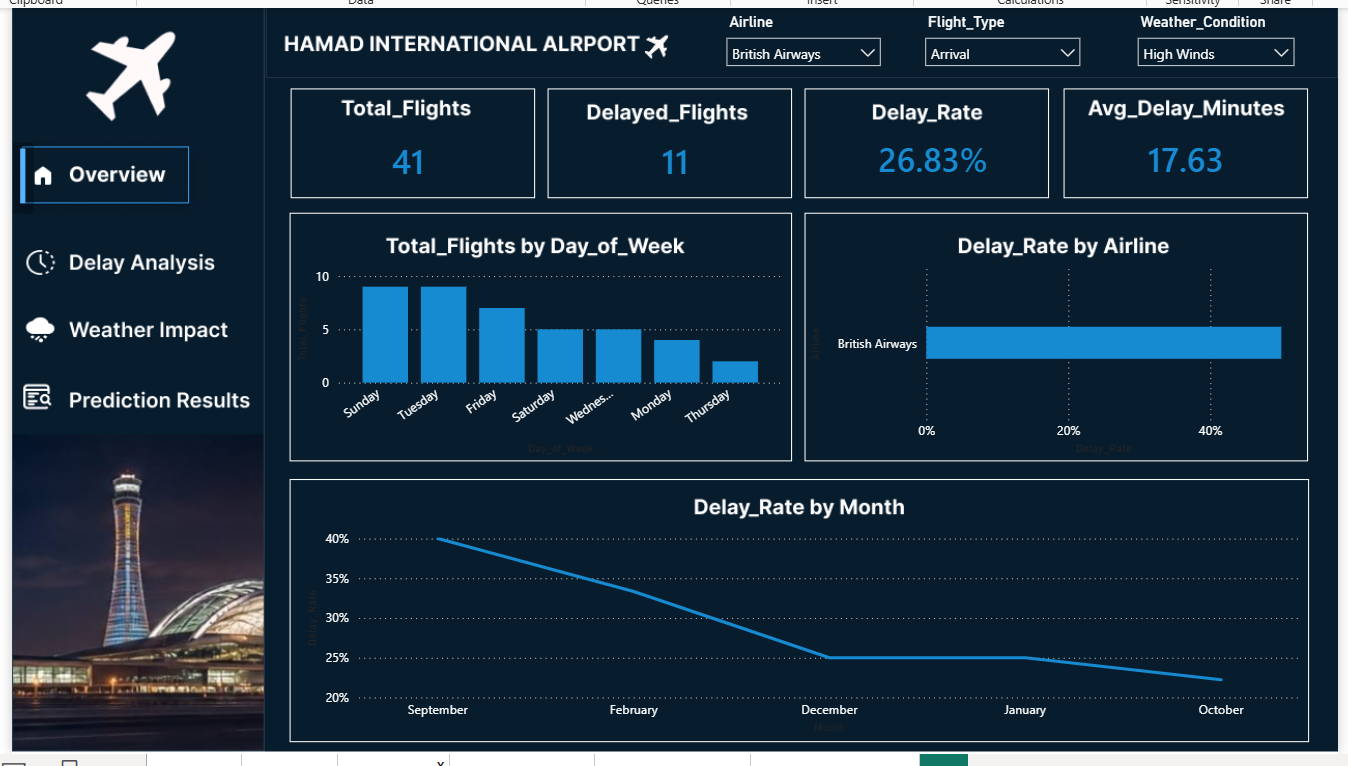

What the dashboard file says about the page in this screenshot:
{"tool":"powerbi","page":{"name":"overview","canvas":[1280,720],"ordinal":2},"visuals":[{"type":"cardVisual","fields":{"Data":["Measure.Total_Flights"]},"box":[308.3,113.1,147.6,65.5],"z":0},{"type":"cardVisual","fields":{"Data":["Measure.Delayed_Flights"]},"box":[578.6,113.1,122.6,65.5],"z":1000},{"type":"cardVisual","fields":{"Data":["Measure.Delay_Rate"]},"box":[797.6,108.3,183.3,70.2],"z":2000},{"type":"cardVisual","fields":{"Data":["Measure.Avg_Delay_Minutes"]},"box":[1060.7,108.3,145.2,70.2],"z":3000},{"type":"lineChart","fields":{"Category":["hia_flights.Month"],"Y":["Measure.Delay_Rate"]},"box":[279.8,498.8,967.9,207.1],"z":4000},{"type":"barChart","fields":{"Category":["hia_flights.Airline"],"Y":["Measure.Delay_Rate"]},"box":[764.3,238.1,477.4,198.8],"z":5000},{"type":"slicer","fields":{"Values":["hia_flights.Airline"]},"box":[678.8,0,169,60.7],"z":6000},{"type":"slicer","fields":{"Values":["hia_flights.Flight_Type"]},"box":[871.2,0,170.2,60.7],"z":7000},{"type":"slicer","fields":{"Values":["hia_flights.Weather_Condition"]},"box":[1076.2,0,171.4,60.7],"z":8000},{"type":"clusteredColumnChart","fields":{"Category":["hia_flights.Day_of_Week"],"Y":["Measure.Total_Flights"]},"box":[270.2,245.2,478.6,191.7],"z":9000},{"type":"actionButton","box":[10,218.8,192.5,52.5],"z":10000}]}

Visuals, with their boxes on the page's 1280x720 design canvas (x1, y1, x2, y2). These are canvas units, not pixel positions in the 1348x766 screenshot, which may show the page scaled, cropped or inside an application window:
cardVisual - Measure.Total_Flights: bbox(308, 113, 456, 179)
cardVisual - Measure.Delayed_Flights: bbox(579, 113, 701, 179)
cardVisual - Measure.Delay_Rate: bbox(798, 108, 981, 178)
cardVisual - Measure.Avg_Delay_Minutes: bbox(1061, 108, 1206, 178)
lineChart - hia_flights.Month x Measure.Delay_Rate: bbox(280, 499, 1248, 706)
barChart - hia_flights.Airline x Measure.Delay_Rate: bbox(764, 238, 1242, 437)
slicer - hia_flights.Airline: bbox(679, 0, 848, 61)
slicer - hia_flights.Flight_Type: bbox(871, 0, 1041, 61)
slicer - hia_flights.Weather_Condition: bbox(1076, 0, 1248, 61)
clusteredColumnChart - hia_flights.Day_of_Week x Measure.Total_Flights: bbox(270, 245, 749, 437)
actionButton: bbox(10, 219, 202, 271)
